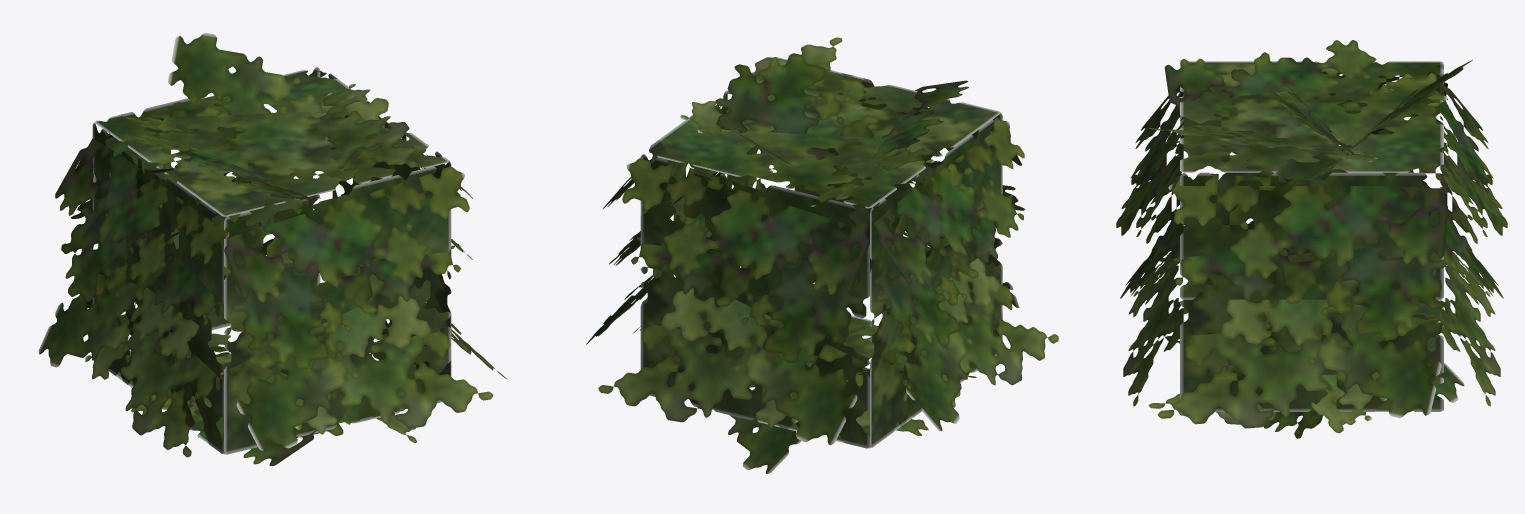
The model's file is vines_block.obj.
3 renders of one model, left to right at view 1: azimuth 30°, elevation 25°; view 2: azimuth 150°, elevation 25°; view 3: azimuth 270°, elevation 25°, orthographic.
Visible parts, largest first — view 1: cube; view 2: cube; view 3: cube.
Part boxes in pixels (box(x1,y1,x2,y2)): cube: box(38, 32, 506, 465); cube: box(586, 37, 1058, 473); cube: box(1116, 40, 1507, 438).
Size of the model in its own units: 1.78 by 1.52 by 1.51.
